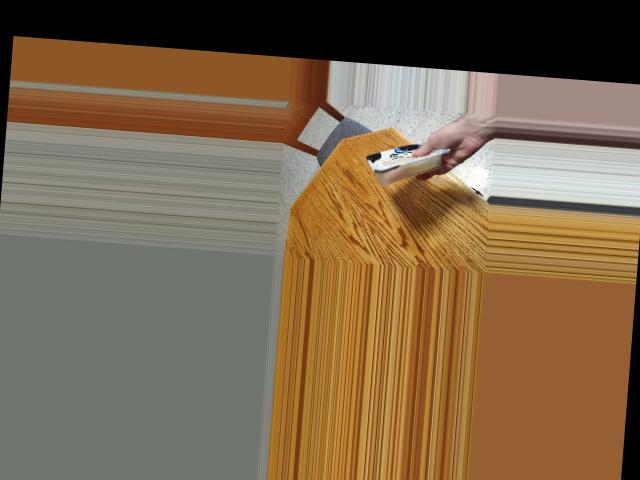cheese: (367, 126, 444, 192)
